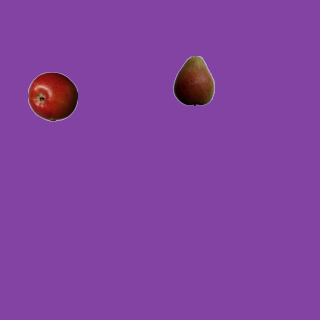Apple Braeburn: (27, 71, 77, 121)
Pear Forelle: (168, 55, 218, 105)
